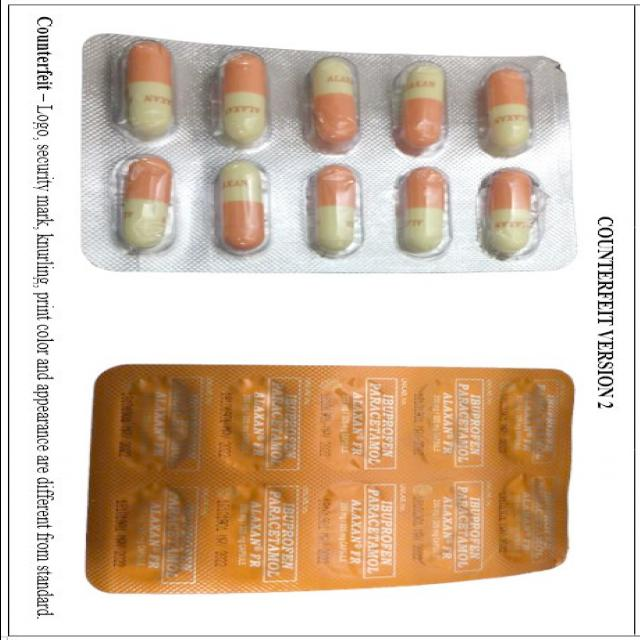counterfeit: (83, 366, 575, 597), (75, 53, 572, 274)
